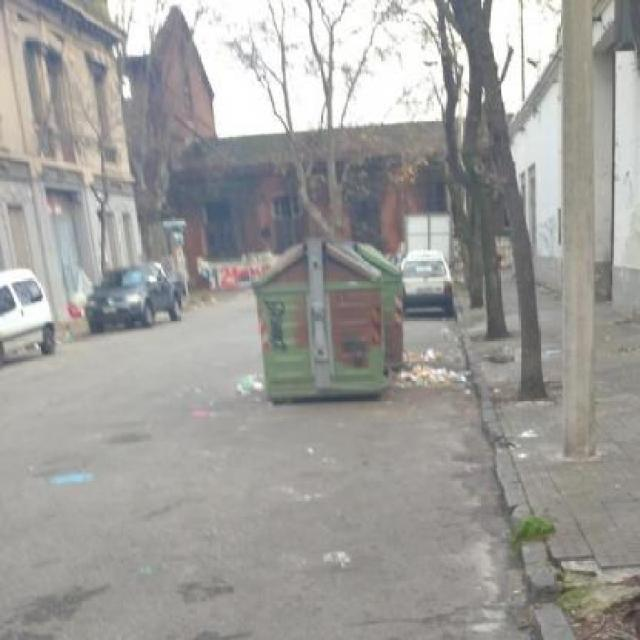garbage: (386, 334, 464, 400), (63, 266, 88, 338), (233, 368, 269, 409)
